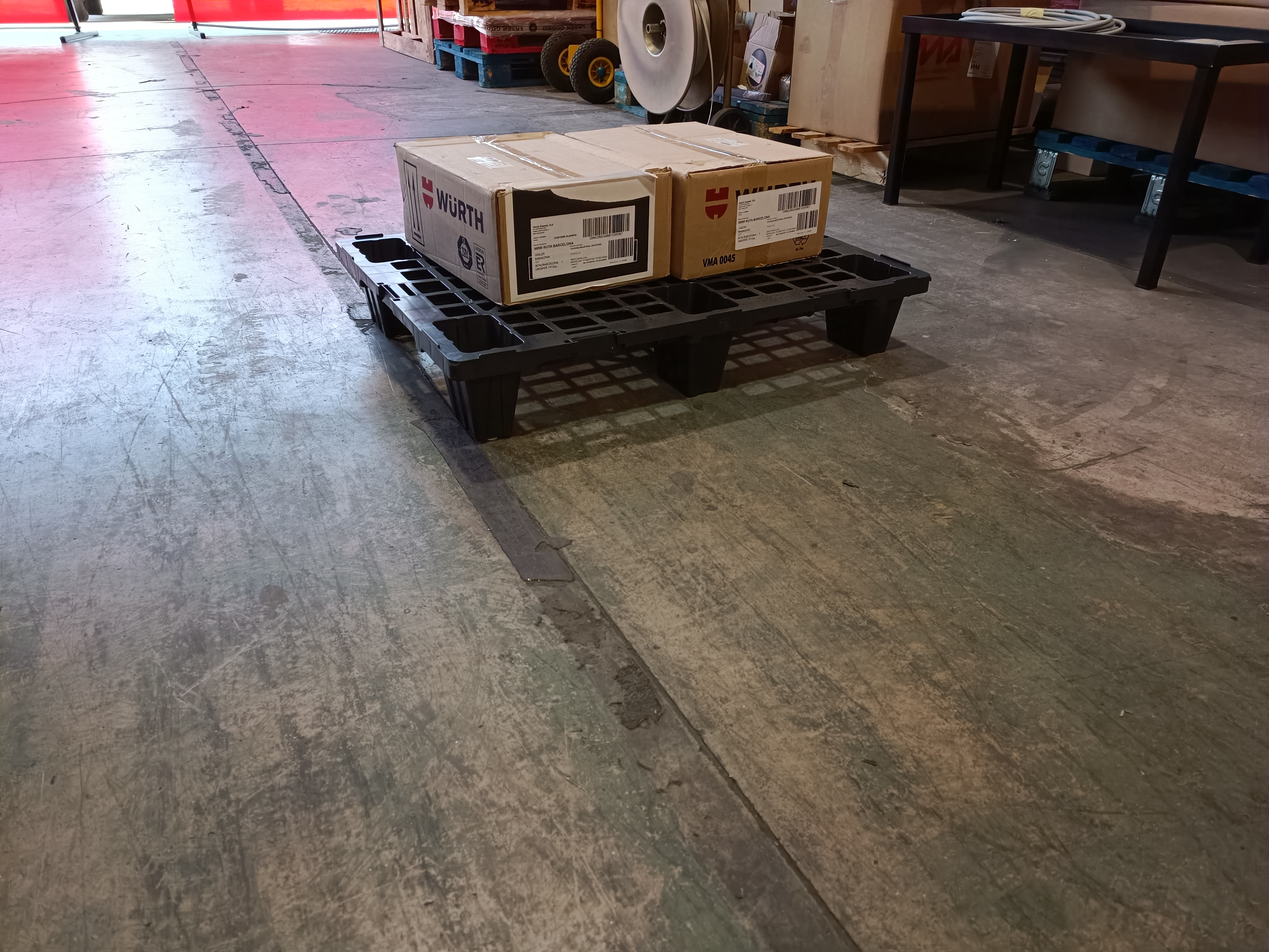block: (440, 353, 523, 450), (648, 310, 728, 396), (834, 285, 906, 358)
front: (458, 275, 929, 442)
hole pallet: (514, 334, 698, 440), (723, 299, 858, 390)
